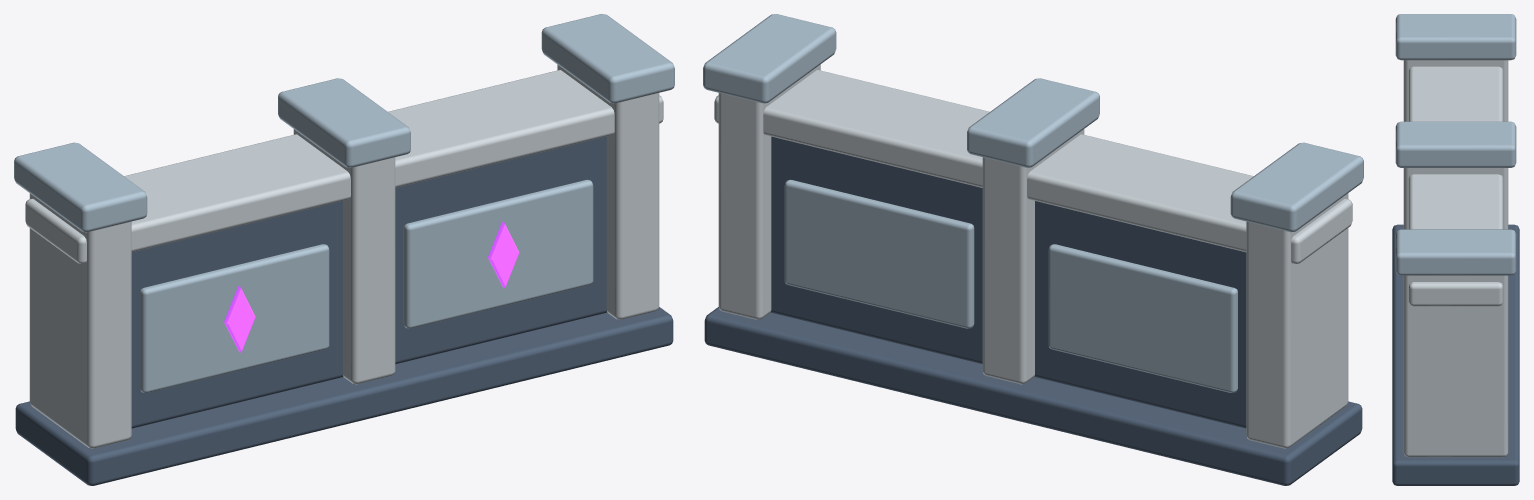
Rendered from moonsteel-convergence-courtyard-wall-1d930c91__18154.glb.
3 views of the same model, side by side, from view 1: azimuth 30°, elevation 25°; view 2: azimuth 150°, elevation 25°; view 3: azimuth 270°, elevation 25° (orthographic). The views are drawn at different scales.
Visible parts, largest first — view 1: courtyard-wall; view 2: courtyard-wall; view 3: courtyard-wall.
Part boxes in pixels (left/top/right/bottom): courtyard-wall: left=14, top=14, right=674, bottom=485; courtyard-wall: left=703, top=14, right=1363, bottom=485; courtyard-wall: left=1392, top=14, right=1519, bottom=485.
Bounding box in the file's own units: 4.05 × 1.83 × 0.8999.
